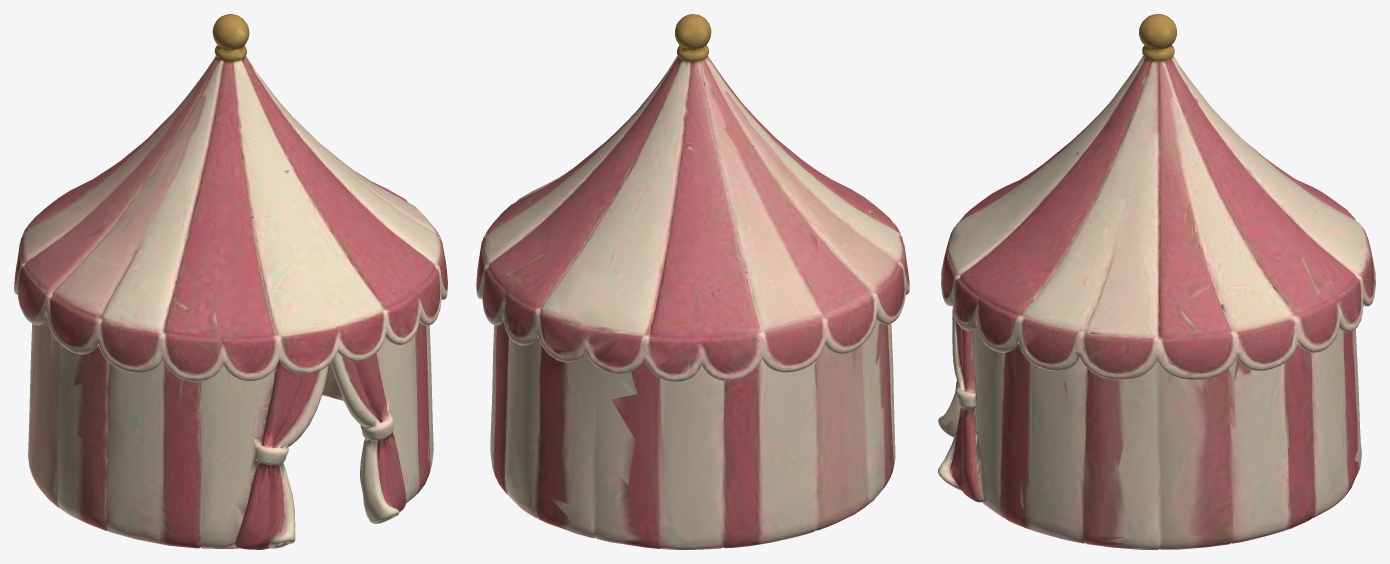
3 renders of one model, left to right at view 1: azimuth 30°, elevation 25°; view 2: azimuth 150°, elevation 25°; view 3: azimuth 270°, elevation 25°, orthographic.
Bounding box in the file's own units: 1.65 × 1.9 × 1.68.
1 material, 1 textured.
